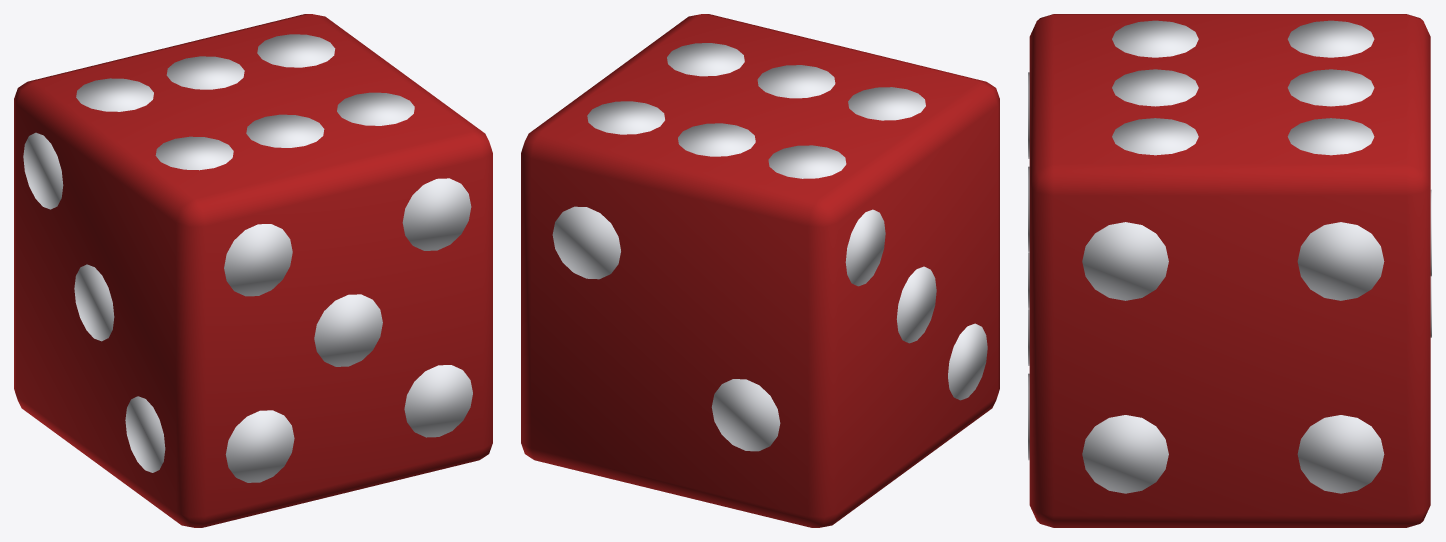
The model's file is Dice.fbx.
The picture shows the model from 3 angles, left to right: view 1: azimuth 30°, elevation 25°; view 2: azimuth 150°, elevation 25°; view 3: azimuth 270°, elevation 25°; orthographic projection. The views are drawn at different scales.
Parts seen in each view (by area): view 1: Dice; view 2: Dice; view 3: Dice.
Part boxes in pixels (x1,y1,x2,y2): Dice: (14, 14, 492, 527); Dice: (521, 14, 999, 527); Dice: (1028, 14, 1431, 527).
Size of the model in its own units: 201 by 201 by 201.
